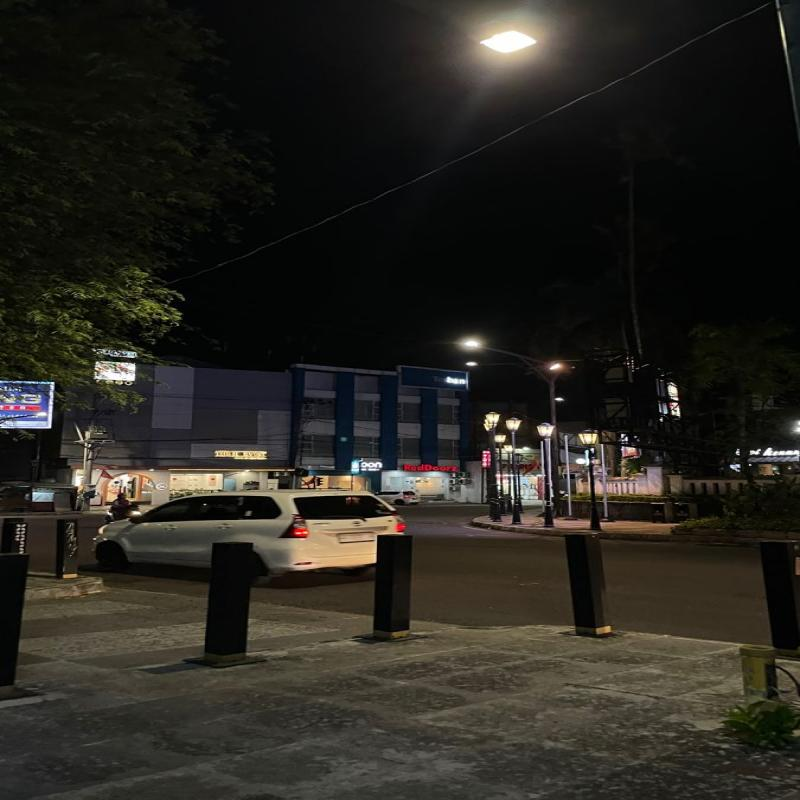license plate on a car: (340, 527, 398, 547)
